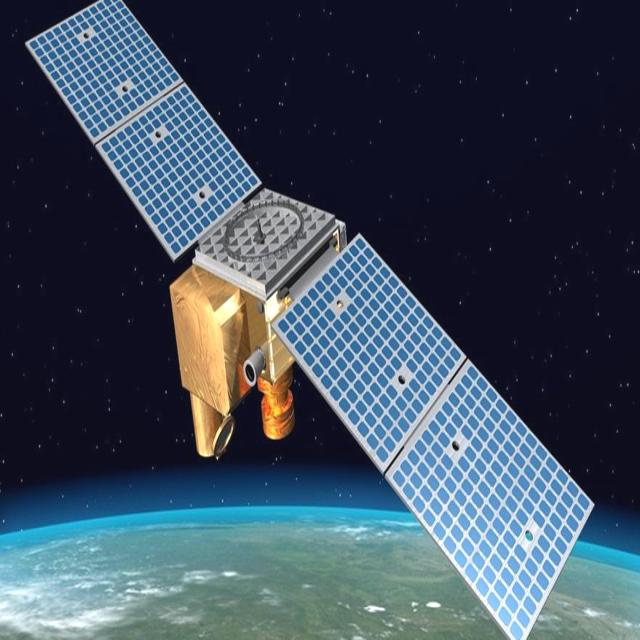medium_debris: (19, 0, 597, 640)
